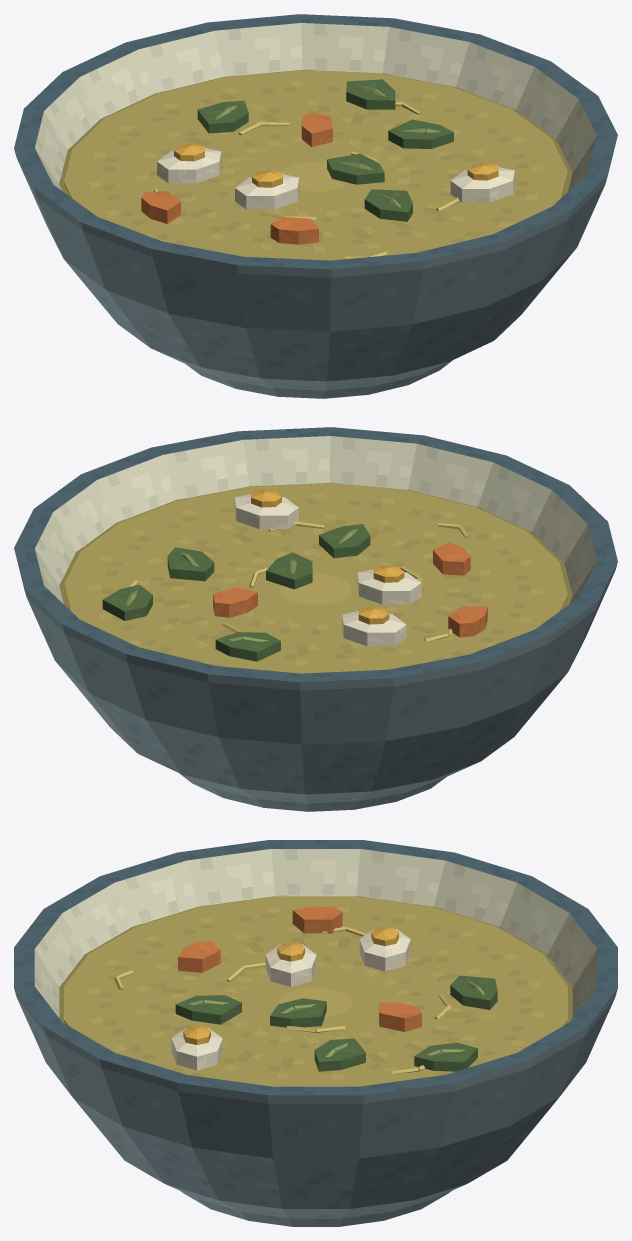
Rendered from soup_woods_egg.glb.
3 renders of one model, top to bottom at view 1: azimuth 30°, elevation 25°; view 2: azimuth 150°, elevation 25°; view 3: azimuth 270°, elevation 25°, orthographic.
Parts seen in each view (by area): view 1: block_deep open soup bowl, block_soup surface, block_folded greens (×5), block_cut boiled egg white (×3), block_carrot piece (×3), block_shaded liquid meniscus; view 2: block_deep open soup bowl, block_soup surface, block_folded greens (×5), block_cut boiled egg white (×3), block_carrot piece (×3), block_shaded liquid meniscus; view 3: block_deep open soup bowl, block_soup surface, block_folded greens (×5), block_cut boiled egg white (×3), block_carrot piece (×3), block_shaded liquid meniscus.
Boxes of the visible parts, x1,y1,x2,y2 form: block_deep open soup bowl: (14,14,617,398); block_soup surface: (64,70,567,260); block_folded greens (×5): (197,79,453,221); block_cut boiled egg white (×3): (157,148,514,209); block_carrot piece (×3): (141,113,332,244); block_shaded liquid meniscus: (59,70,572,196); block_deep open soup bowl: (14,427,617,811); block_soup surface: (64,483,567,673); block_folded greens (×5): (102,524,370,661); block_cut boiled egg white (×3): (234,494,421,646); block_carrot piece (×3): (213,542,487,637); block_shaded liquid meniscus: (59,483,572,609); block_deep open soup bowl: (14,840,617,1226); block_soup surface: (64,896,567,1086); block_folded greens (×5): (175,975,497,1071); block_cut boiled egg white (×3): (171,929,410,1070); block_carrot piece (×3): (178,906,421,1031); block_shaded liquid meniscus: (59,896,572,1023).
Bounding box in the file's own units: 0.1437 × 0.0517 × 0.1437.
Materials: 1 (1 with a texture image).
